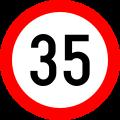Speed Limit -35-: (28, 32, 95, 91)
